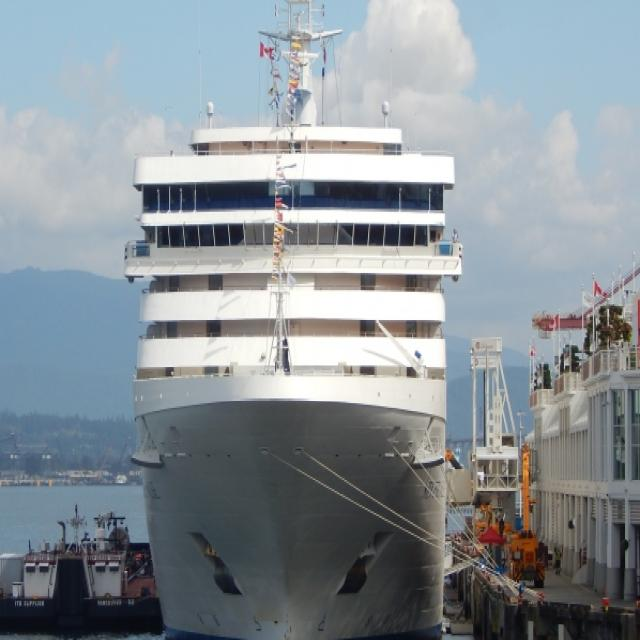cruises: (120, 1, 469, 640)
